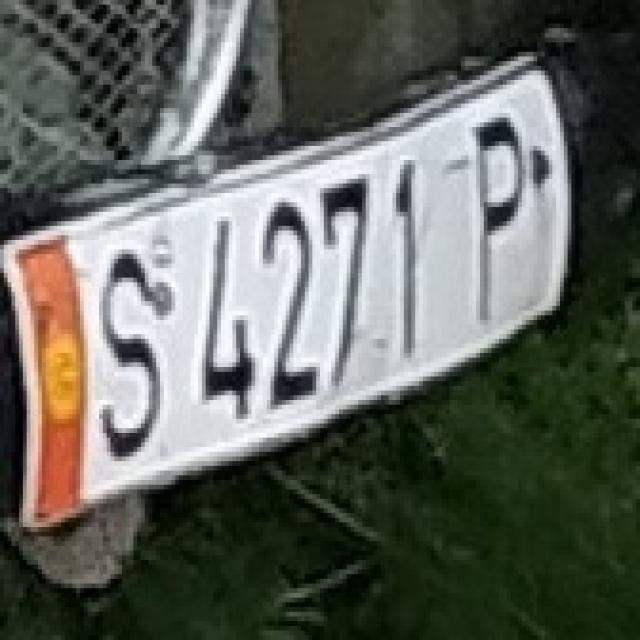1: (370, 141, 430, 358)
2: (248, 183, 316, 410)
4: (182, 193, 255, 419)
7: (312, 155, 373, 386)
P: (460, 99, 530, 325)
S: (80, 235, 172, 461)
